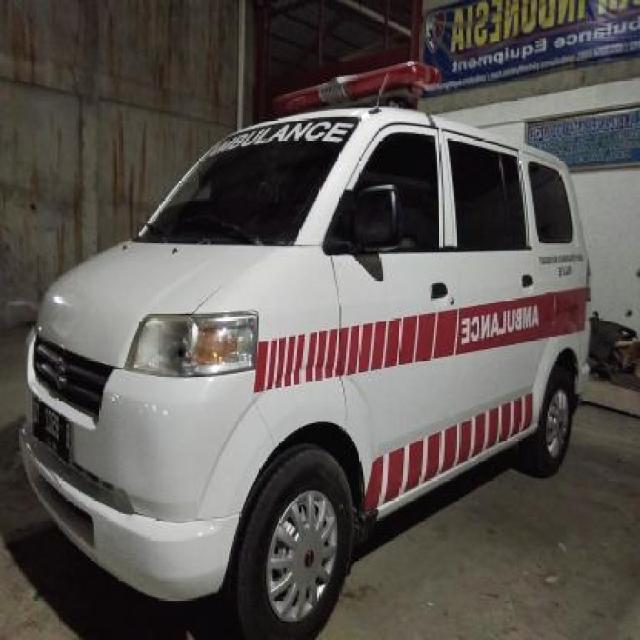emergency: (17, 58, 593, 638)
